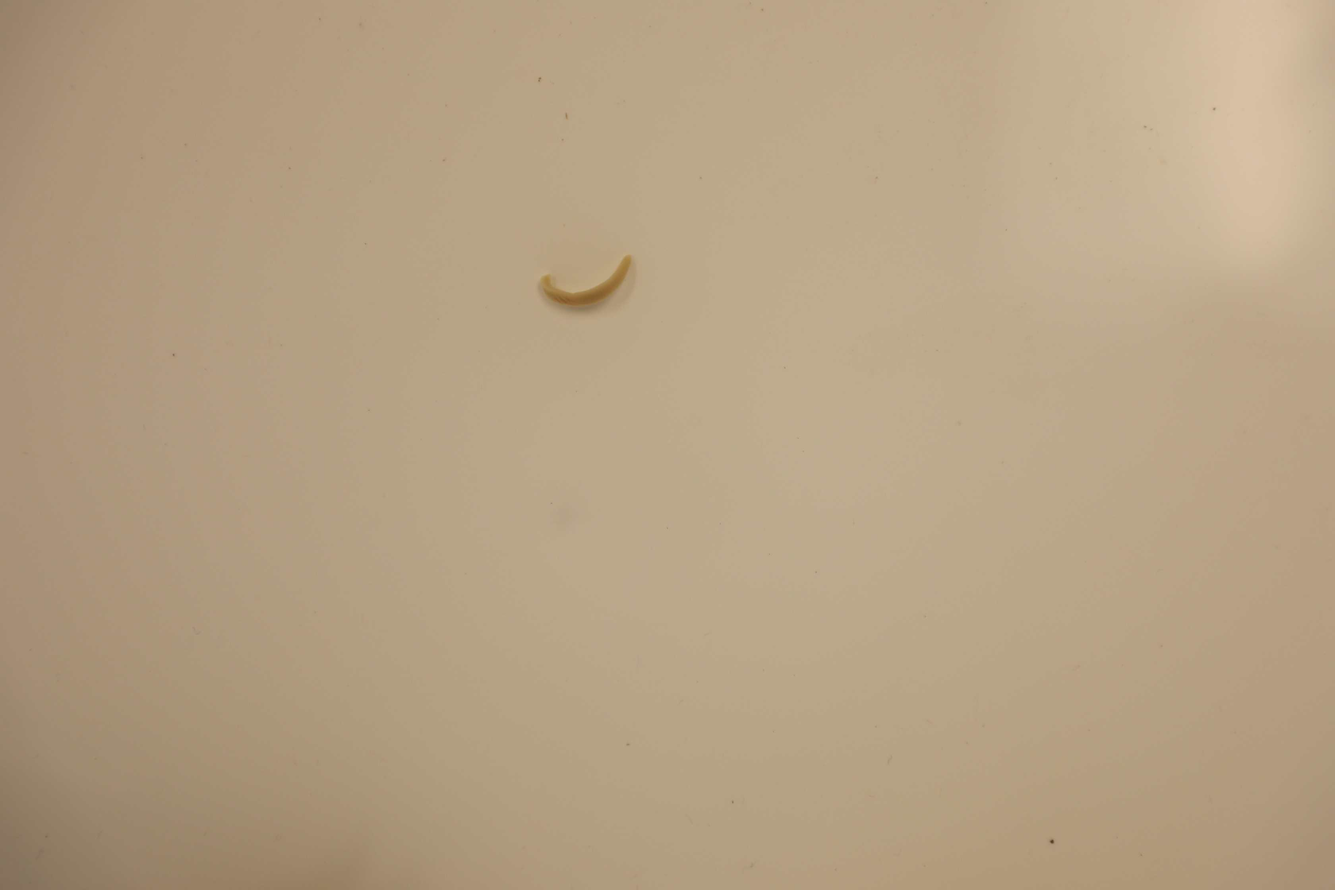Cadisfly: (537, 249, 636, 317)
